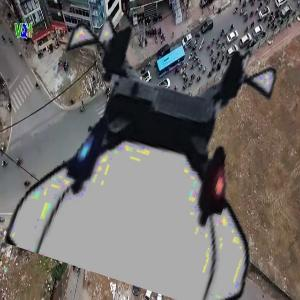drone: (21, 19, 288, 286)
